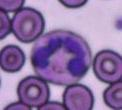N: (30, 30, 92, 86)
